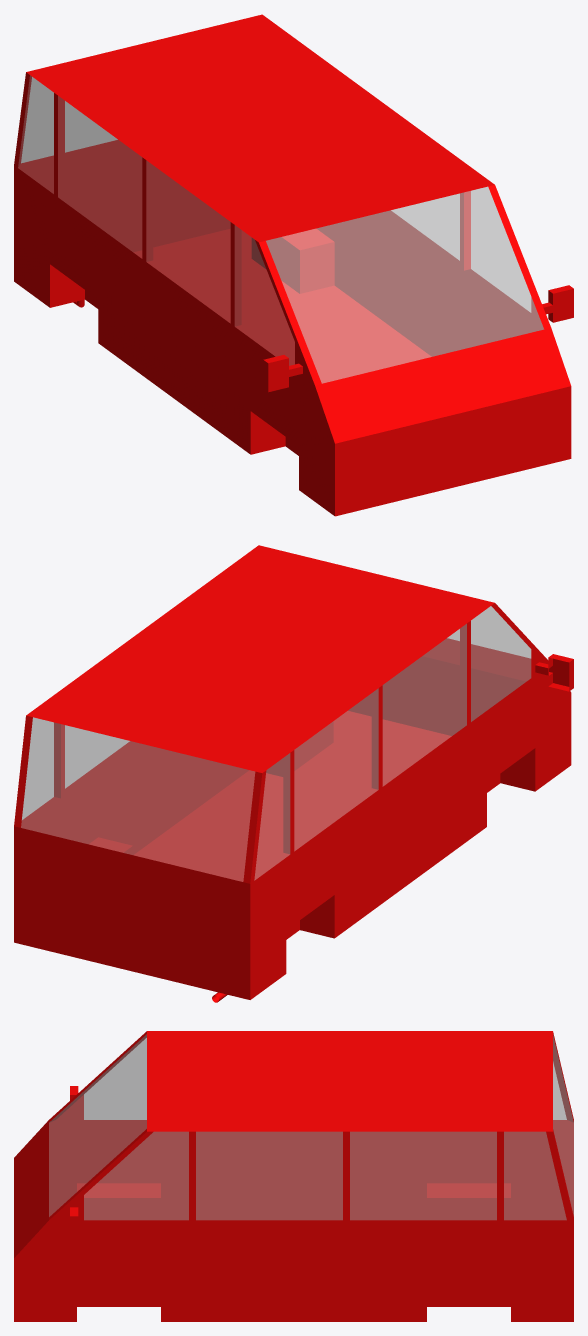
Rendered from Minibus.dae.
The picture shows the model from 3 angles, top to bottom: view 1: azimuth 30°, elevation 25°; view 2: azimuth 150°, elevation 25°; view 3: azimuth 270°, elevation 25°; orthographic projection. The views are drawn at different scales.
Visible parts, largest first — view 1: Body; view 2: Body; view 3: Body.
Part boxes in pixels (<box>): Body: <box>14,14,573,516</box>; Body: <box>14,545,573,1002</box>; Body: <box>14,1031,573,1321</box>.
Bounding box in the file's own units: 2.2 × 4 × 1.57.
